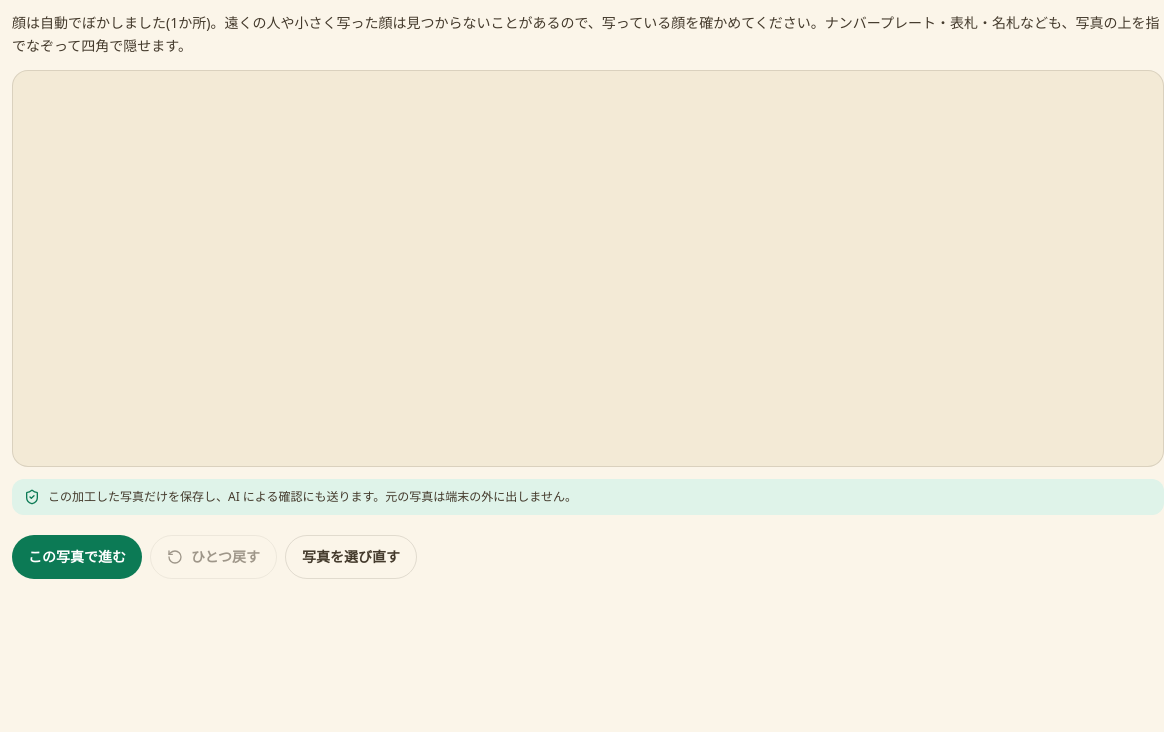
Test case: PhotoMasker(写真を端末でぼかす) › 指でなぞりかけて取り消された(pointercancel)ときは、囲みかけの四角を足さない
The width and height of the screenshot is (1164, 732).
Press the mouse on the picture named "ぼかした写真": x=588, y=268 [324,70,852,466]
Check: the button "ひとつ戻す" is disabled, box [150,535,277,579]
Press the mouse on the picture named "ぼかした写真": x=588, y=268 [324,70,852,466]
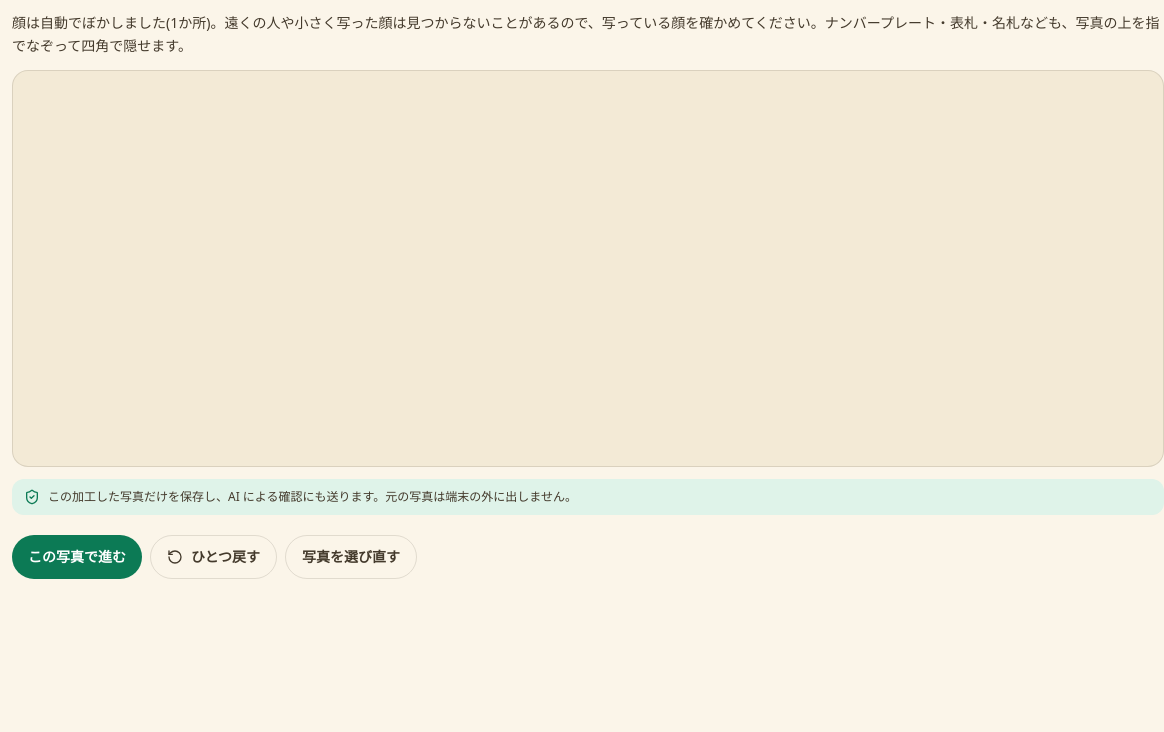
Check: the button "ひとつ戻す" is enabled, box [150,535,277,579]
